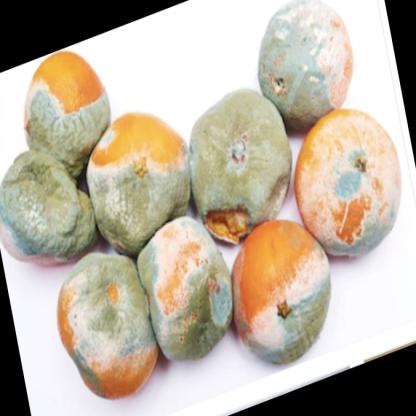rotten_orange: (291, 103, 406, 257), (58, 235, 160, 405), (190, 83, 296, 245), (230, 217, 329, 374), (146, 203, 234, 371), (93, 102, 192, 245), (19, 45, 118, 169), (259, 1, 360, 115)
